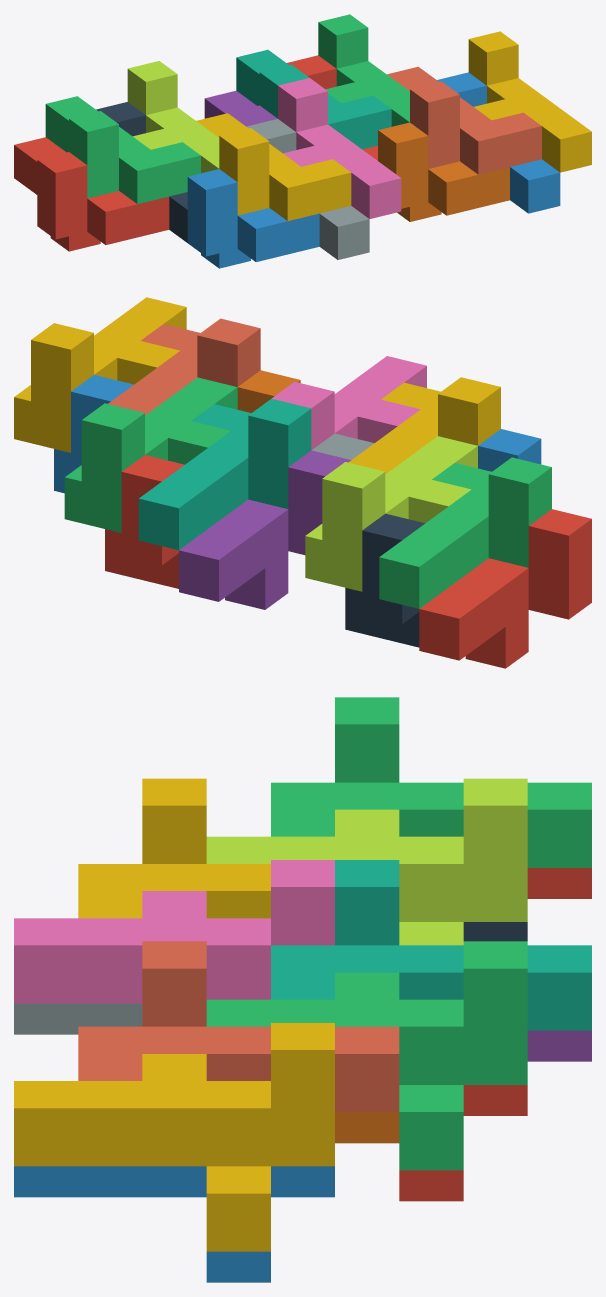
Rendered from tiling.obj.
3 renders of one model, top to bottom at view 1: azimuth 30°, elevation 25°; view 2: azimuth 150°, elevation 25°; view 3: azimuth 270°, elevation 25°, orthographic. The views are drawn at different scales.
Parts seen in each view (by area): view 1: copy_1_domain_1, copy_1_domain_3, copy_1_domain_4, copy_1_domain_8, copy_1_domain_2, copy_2_domain_4, copy_2_domain_8, copy_1_domain_6, copy_1_domain_7, copy_2_domain_3, copy_2_domain_7, copy_2_domain_2 (+4 smaller); view 2: copy_1_domain_1, copy_1_domain_7, copy_1_domain_3, copy_1_domain_5, copy_2_domain_7, copy_2_domain_3, copy_2_domain_8, copy_1_domain_8, copy_1_domain_4, copy_2_domain_4, copy_2_domain_1, copy_2_domain_5 (+4 smaller); view 3: copy_2_domain_8, copy_2_domain_7, copy_2_domain_4, copy_2_domain_3, copy_1_domain_8, copy_1_domain_7, copy_1_domain_3, copy_1_domain_4, copy_2_domain_6, copy_2_domain_5, copy_2_domain_2, copy_1_domain_5 (+3 smaller).
Boxes of the visible parts, <box> form: copy_1_domain_1: <box>14,137,169,251</box>; copy_1_domain_3: <box>45,96,200,204</box>; copy_1_domain_4: <box>196,113,351,220</box>; copy_1_domain_8: <box>387,66,541,174</box>; copy_1_domain_2: <box>187,169,319,268</box>; copy_2_domain_4: <box>278,78,401,218</box>; copy_2_domain_8: <box>468,31,591,172</box>; copy_1_domain_6: <box>378,122,509,221</box>; copy_1_domain_7: <box>236,49,391,149</box>; copy_2_domain_3: <box>127,61,219,173</box>; copy_2_domain_7: <box>318,14,409,126</box>; copy_2_domain_2: <box>246,119,369,259</box>; copy_1_domain_1: <box>419,509,591,668</box>; copy_1_domain_7: <box>138,398,311,550</box>; copy_1_domain_3: <box>379,457,551,608</box>; copy_1_domain_5: <box>179,450,351,609</box>; copy_2_domain_7: <box>64,377,237,532</box>; copy_2_domain_3: <box>305,436,477,591</box>; copy_2_domain_8: <box>14,297,186,452</box>; copy_1_domain_8: <box>108,318,260,415</box>; copy_1_domain_4: <box>348,377,500,474</box>; copy_2_domain_4: <box>272,356,426,449</box>; copy_2_domain_1: <box>345,513,424,647</box>; copy_2_domain_5: <box>105,455,184,588</box>; copy_2_domain_8: <box>14,1023,334,1251</box>; copy_2_domain_7: <box>206,941,527,1170</box>; copy_2_domain_4: <box>14,860,334,1003</box>; copy_2_domain_3: <box>206,778,527,945</box>; copy_1_domain_8: <box>78,941,399,1111</box>; copy_1_domain_7: <box>271,860,591,1030</box>; copy_1_domain_3: <box>271,697,591,867</box>; copy_1_domain_4: <box>78,778,270,918</box>; copy_2_domain_6: <box>14,1166,334,1282</box>; copy_2_domain_5: <box>399,1085,527,1201</box>; copy_2_domain_2: <box>14,1003,142,1034</box>; copy_1_domain_5: <box>527,1030,591,1061</box>.
Size of the model in its own units: 15 by 4 by 9.
